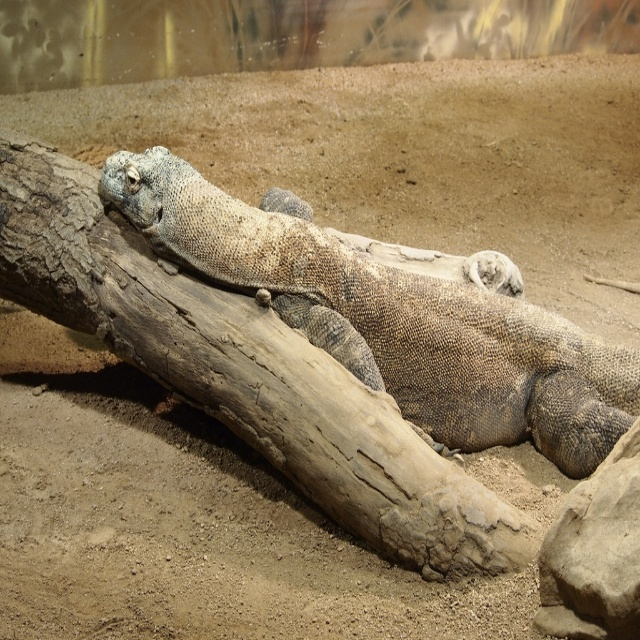Lizard: (101, 146, 640, 480)
